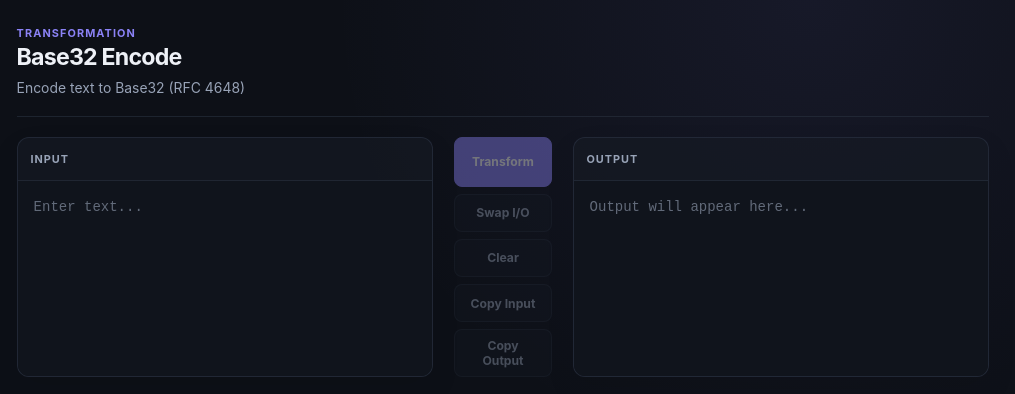
GenericTransformationPage › runs a no-param transformation and shows the output
Type "foobar" into the text box with id "input-textarea" at coordinates (225, 278), box top-left (18, 180), bottom-right (432, 376)
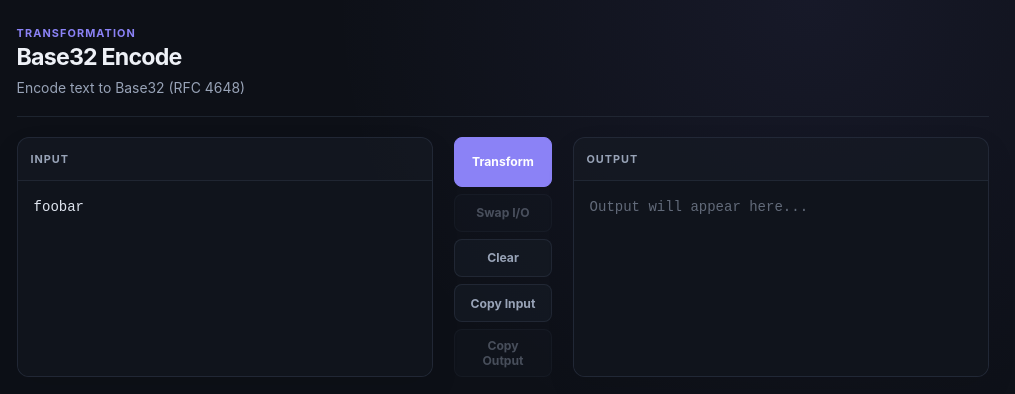
Click the button with class "transform-button" at coordinates (503, 162), box top-left (454, 136), bottom-right (552, 186)
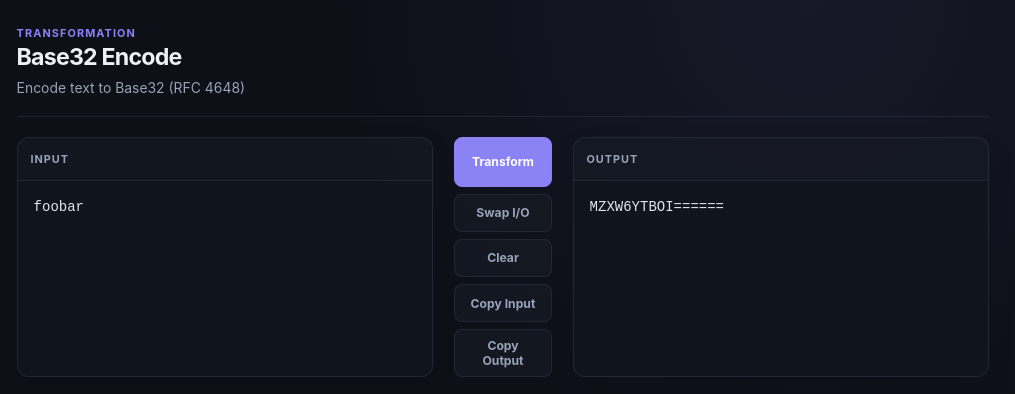
Expected: the text box with id "output-textarea" holds "MZXW6YTBOI======", top-left (574, 180), bottom-right (988, 376)
